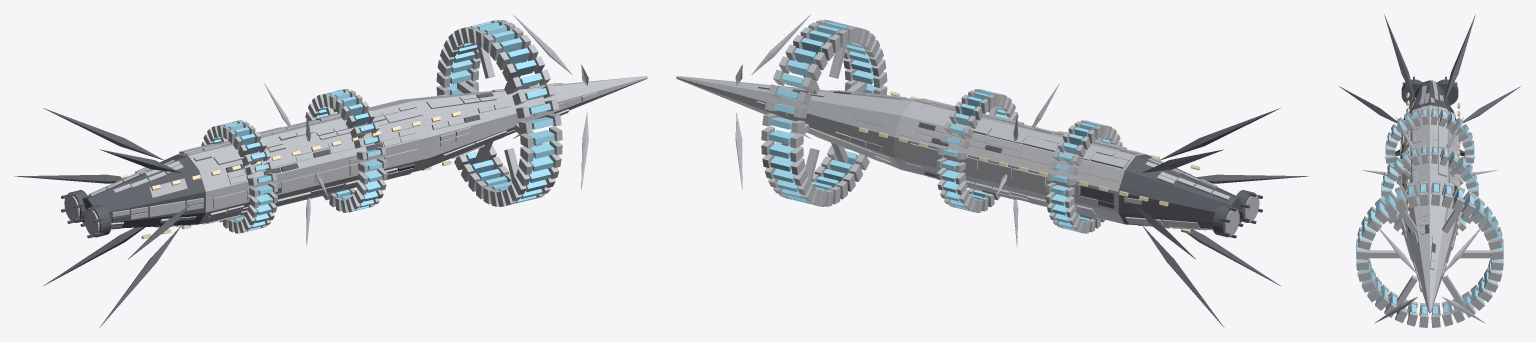
Rendered from SM_SilenceEmitterFrigate.fbx.
3 views of the same model, side by side, from view 1: azimuth 30°, elevation 25°; view 2: azimuth 150°, elevation 25°; view 3: azimuth 270°, elevation 25° (orthographic). The views are drawn at different scales.
Parts seen in each view (by area): view 1: SM_SilenceEmitterFrigate; view 2: SM_SilenceEmitterFrigate; view 3: SM_SilenceEmitterFrigate.
Boxes of the visible parts, x1,y1,x2,y2 form: SM_SilenceEmitterFrigate: (14,14,647,327); SM_SilenceEmitterFrigate: (676,14,1308,327); SM_SilenceEmitterFrigate: (1339,14,1520,327).
Size of the model in its own units: 270 by 79.89 by 92.23.
